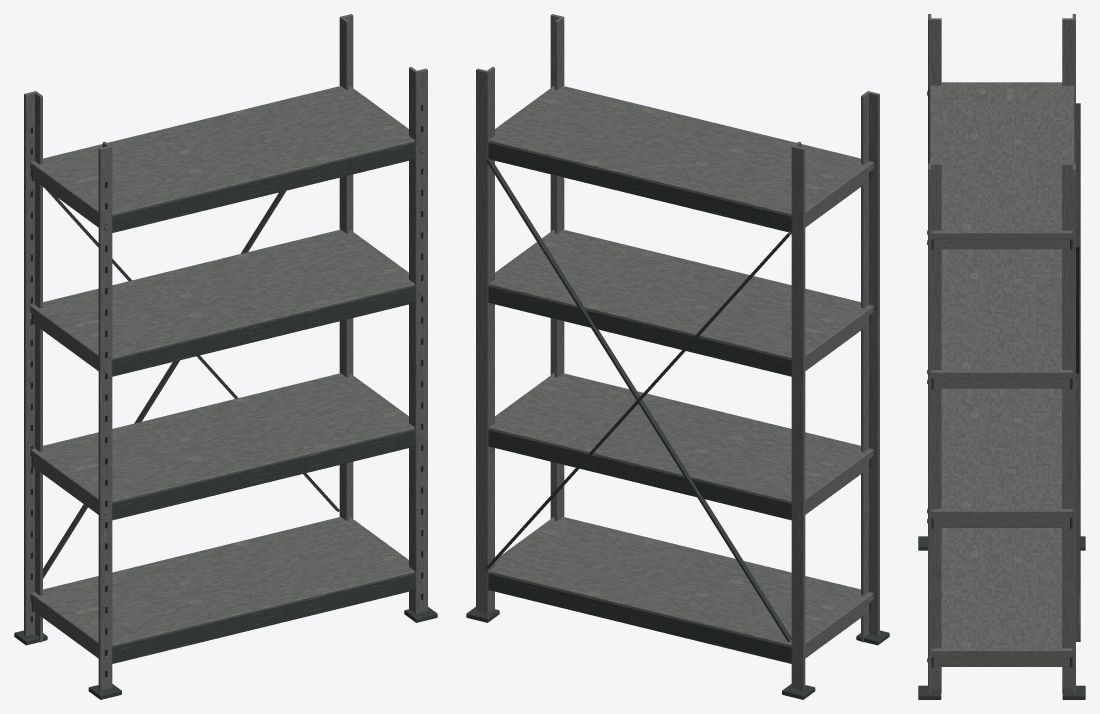
Rendered from metal_storage_rack.glb.
3 renders of one model, left to right at view 1: azimuth 30°, elevation 25°; view 2: azimuth 150°, elevation 25°; view 3: azimuth 270°, elevation 25°, orthographic. The views are drawn at different scales.
Visible parts, largest first — view 1: metal_storage_rack; view 2: metal_storage_rack; view 3: metal_storage_rack.
Part boxes in pixels (left/top/right/bottom): metal_storage_rack: left=14, top=14, right=437, bottom=699; metal_storage_rack: left=466, top=14, right=889, bottom=699; metal_storage_rack: left=918, top=14, right=1085, bottom=699.
Size of the model in its own units: 1.23 by 1.9 by 0.545.
3 materials, 3 textured.
